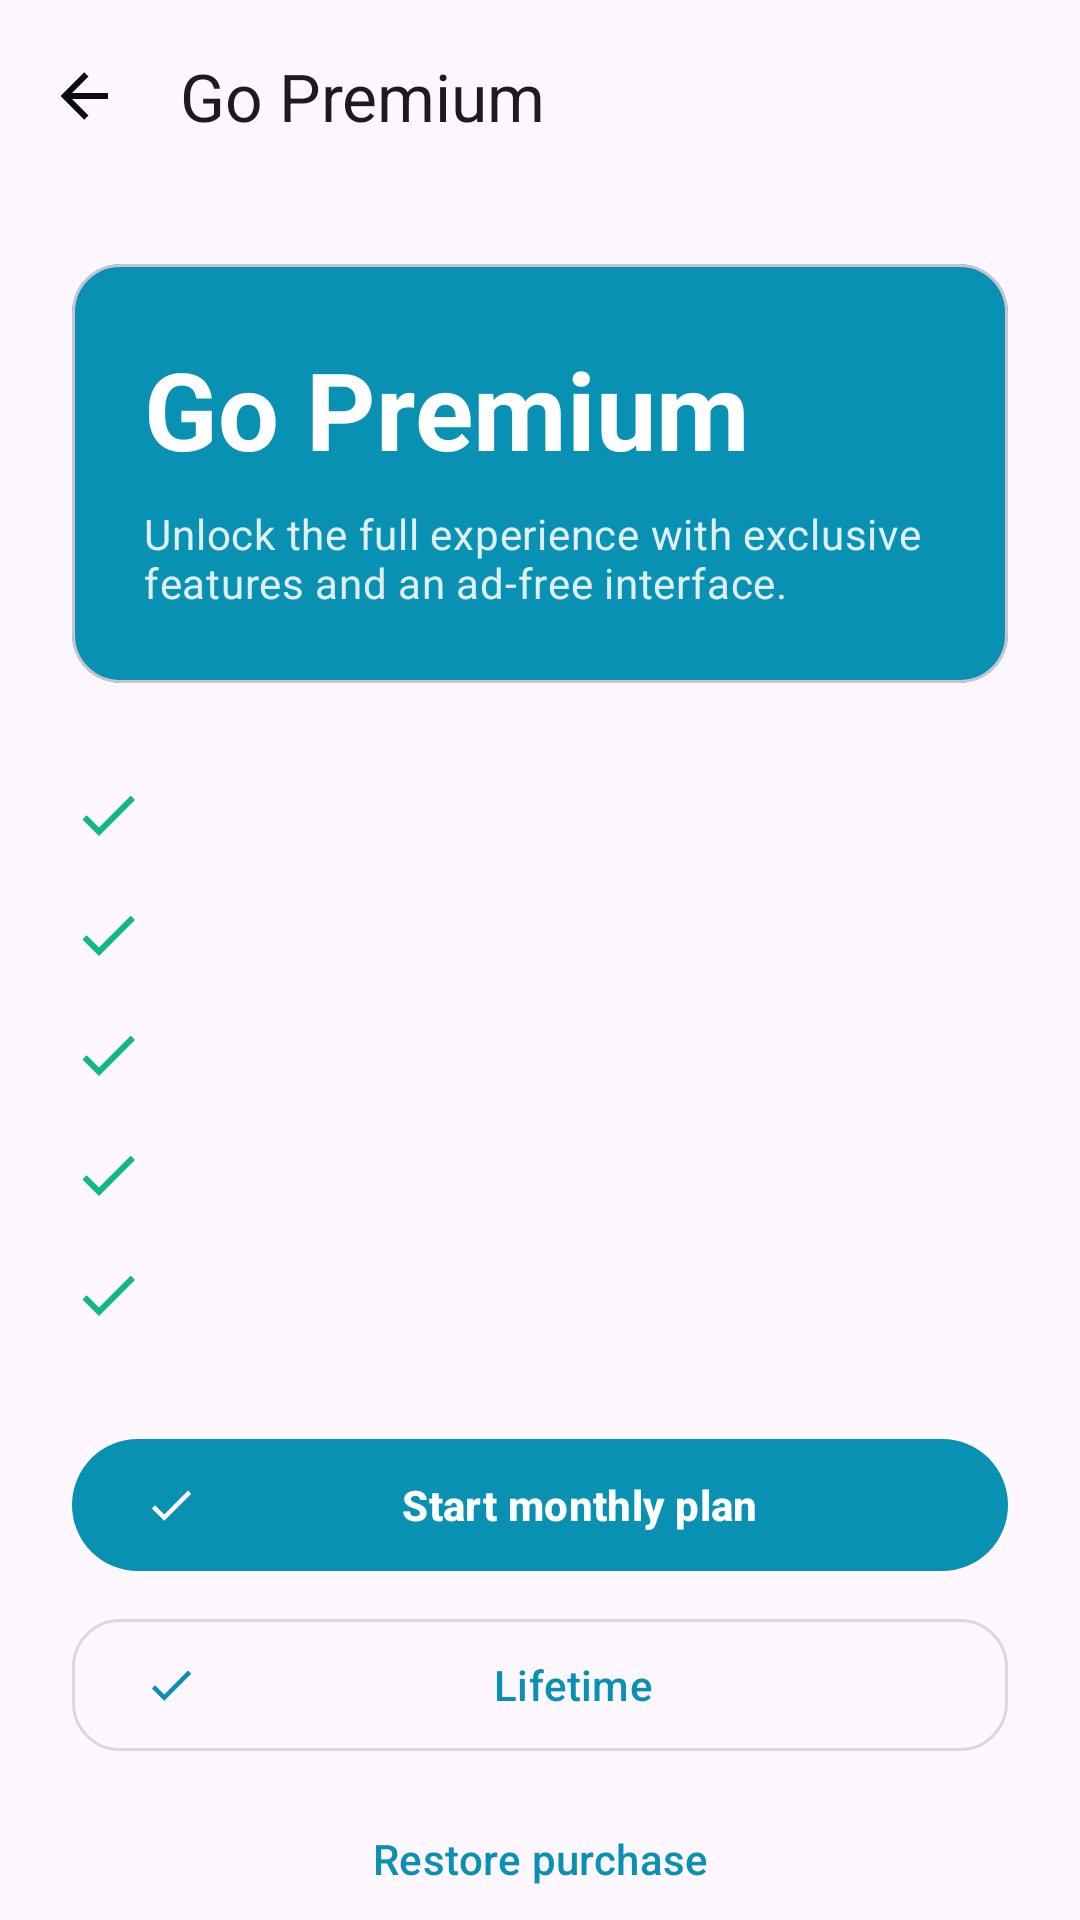

Named icons in this screenshot (1080 x 1920) and their bounding boxes, region(x1, y1, x2, y2):
check: region(82, 796, 135, 836), region(82, 916, 135, 956), region(82, 1036, 135, 1076), region(82, 1156, 135, 1196), region(82, 1276, 135, 1316)
